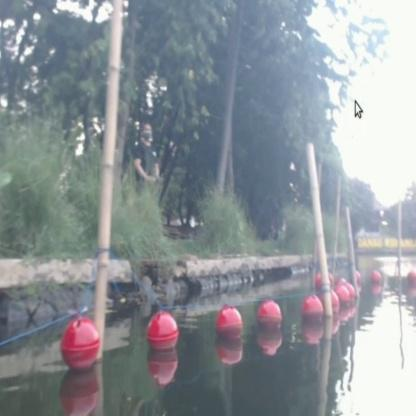red_buoy: (62, 319, 100, 370), (148, 312, 176, 356), (257, 301, 281, 339), (218, 308, 240, 344), (304, 299, 322, 328), (338, 284, 349, 312), (347, 282, 356, 310), (368, 270, 380, 288), (333, 290, 337, 322)
